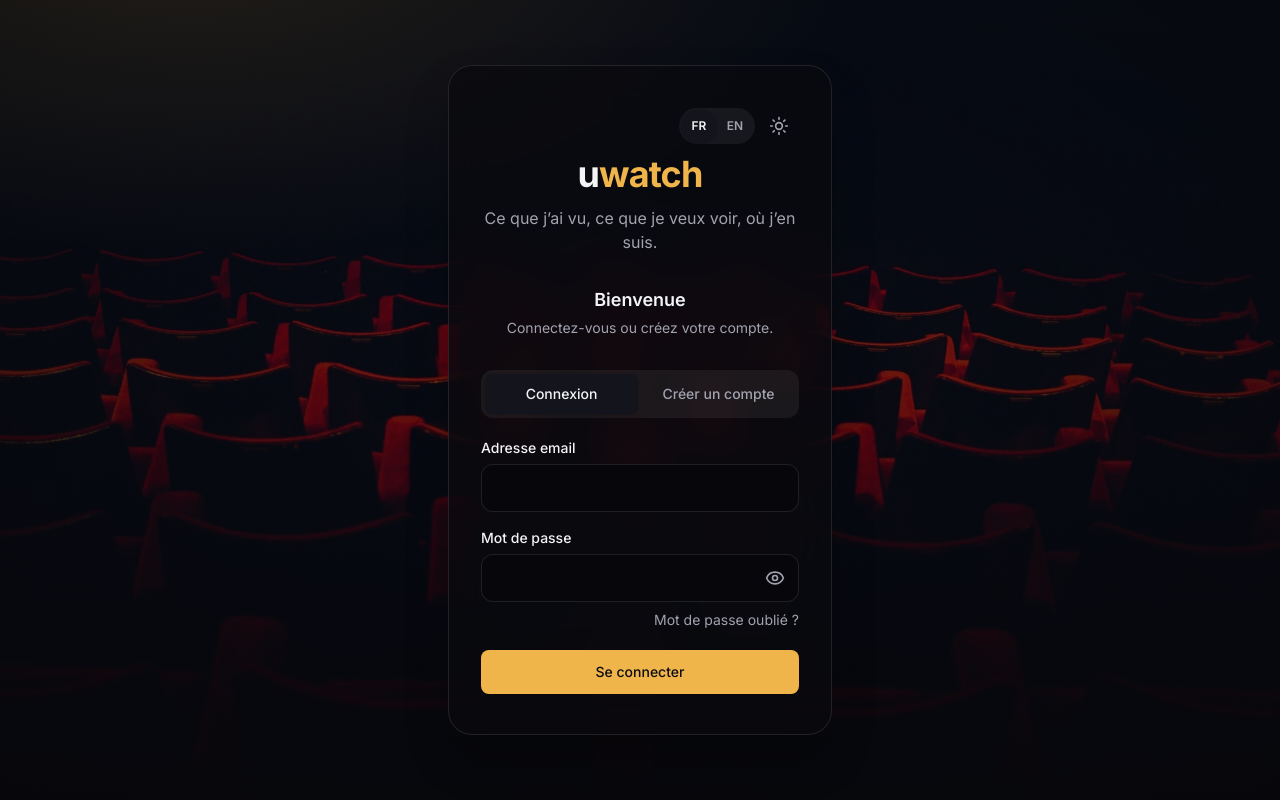
Test: LoginPage › refuses weak or mismatched passwords on sign-up
Click the button "Créer un compte" at (718, 394), box [642,374,795,414]
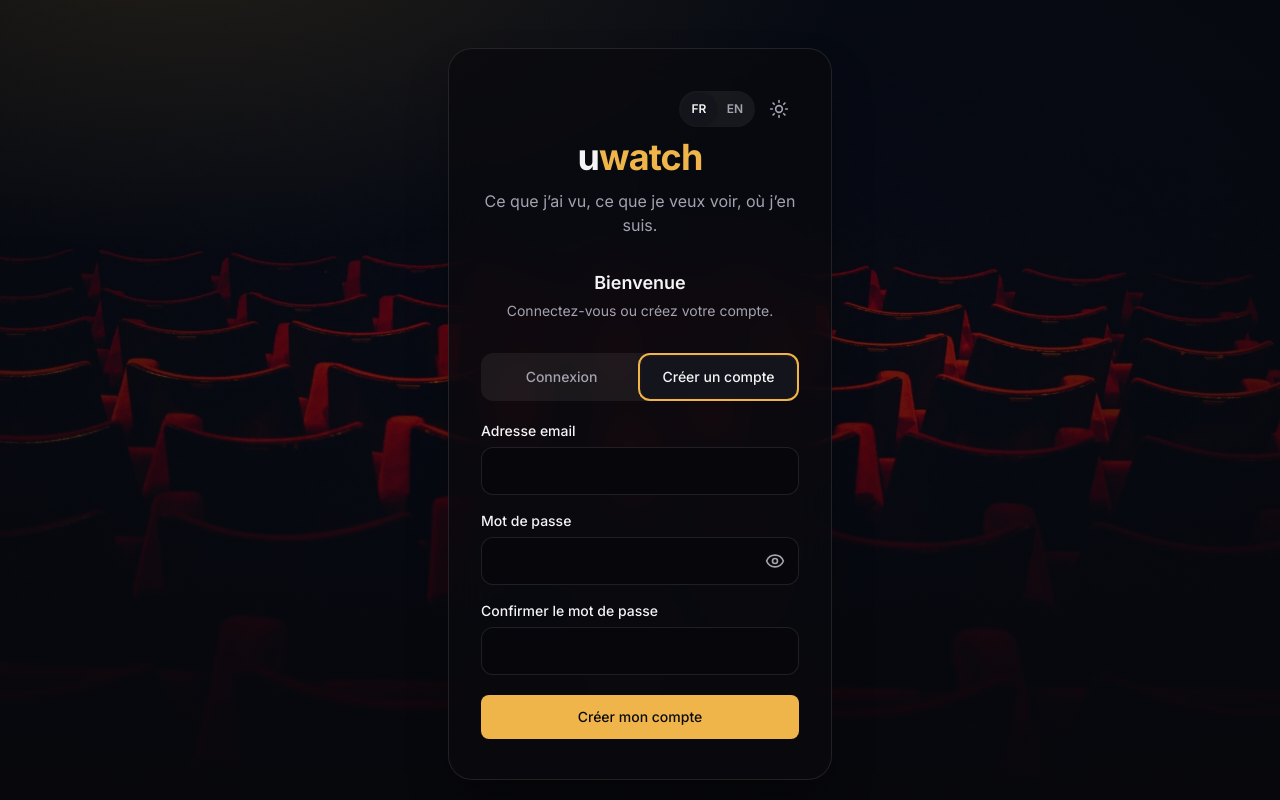
Type "me@example.com" into the field labelled "Adresse email" at (640, 471), box [481,447,799,495]
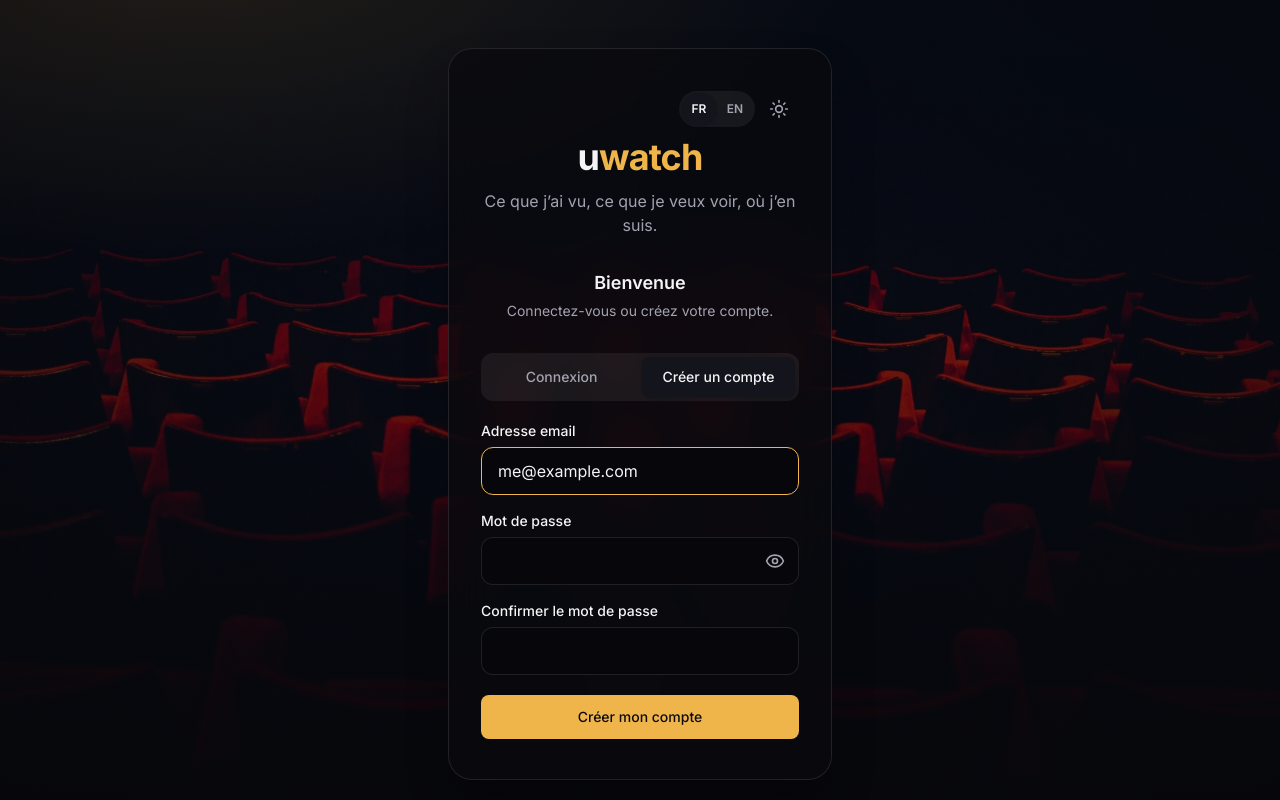
Type "short" into the password field labelled "Mot de passe" at (640, 561), box [481,537,799,585]
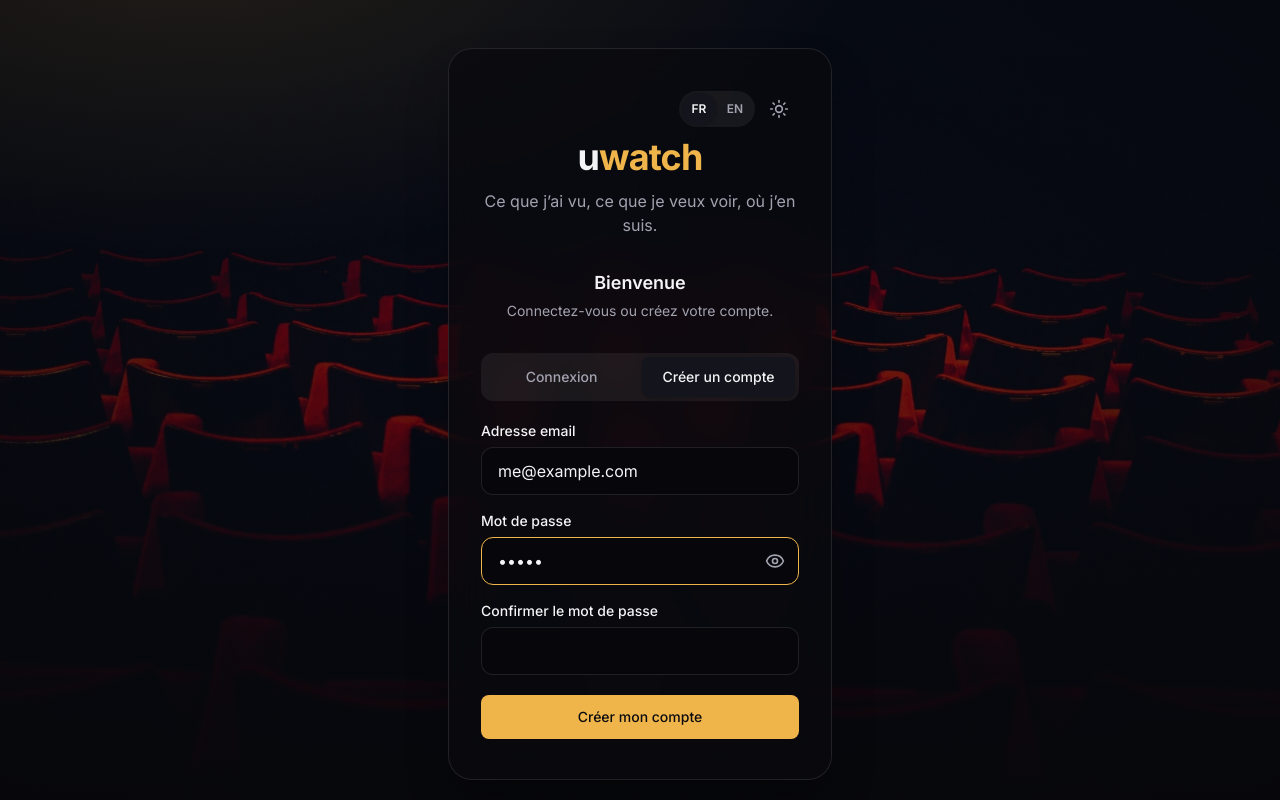
Type "other" into the password field labelled "Confirmer le mot de passe" at (640, 651), box [481,627,799,675]
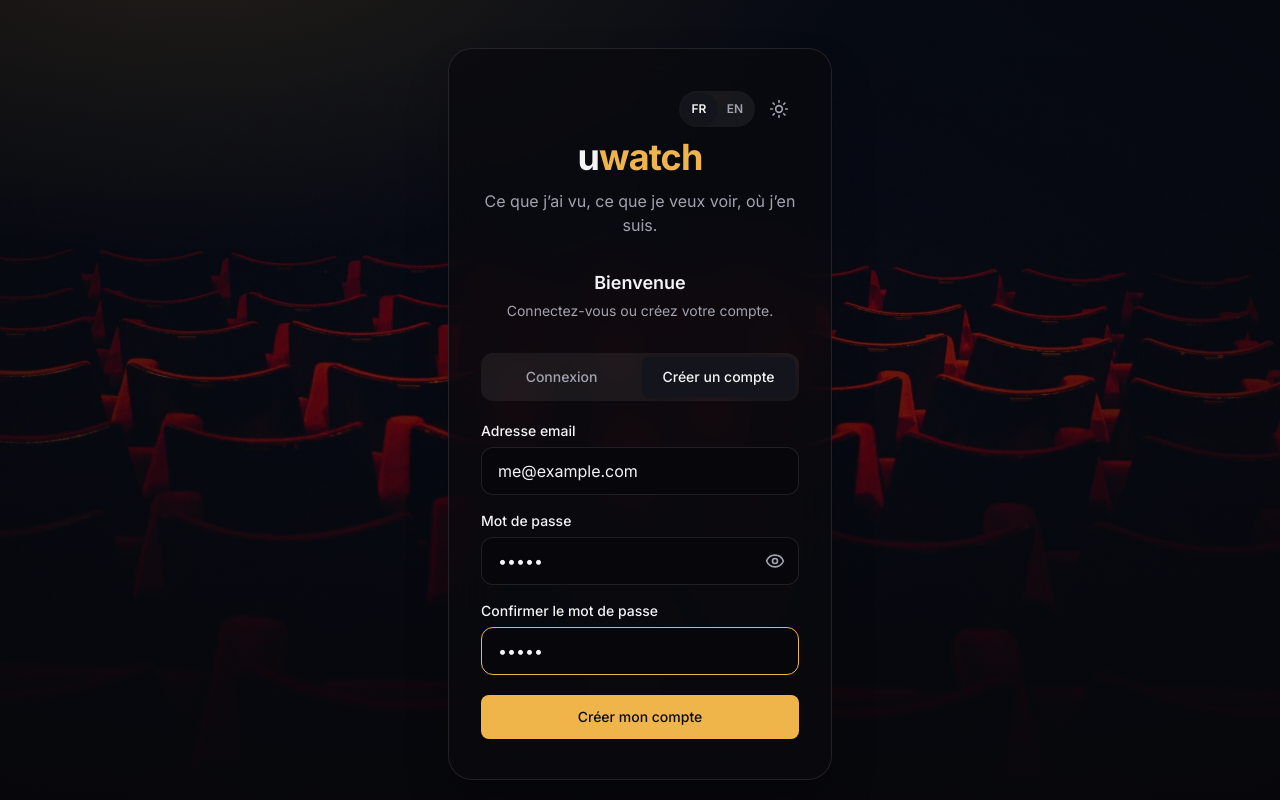
Click the button "Créer mon compte" at (640, 717), box [481,695,799,739]
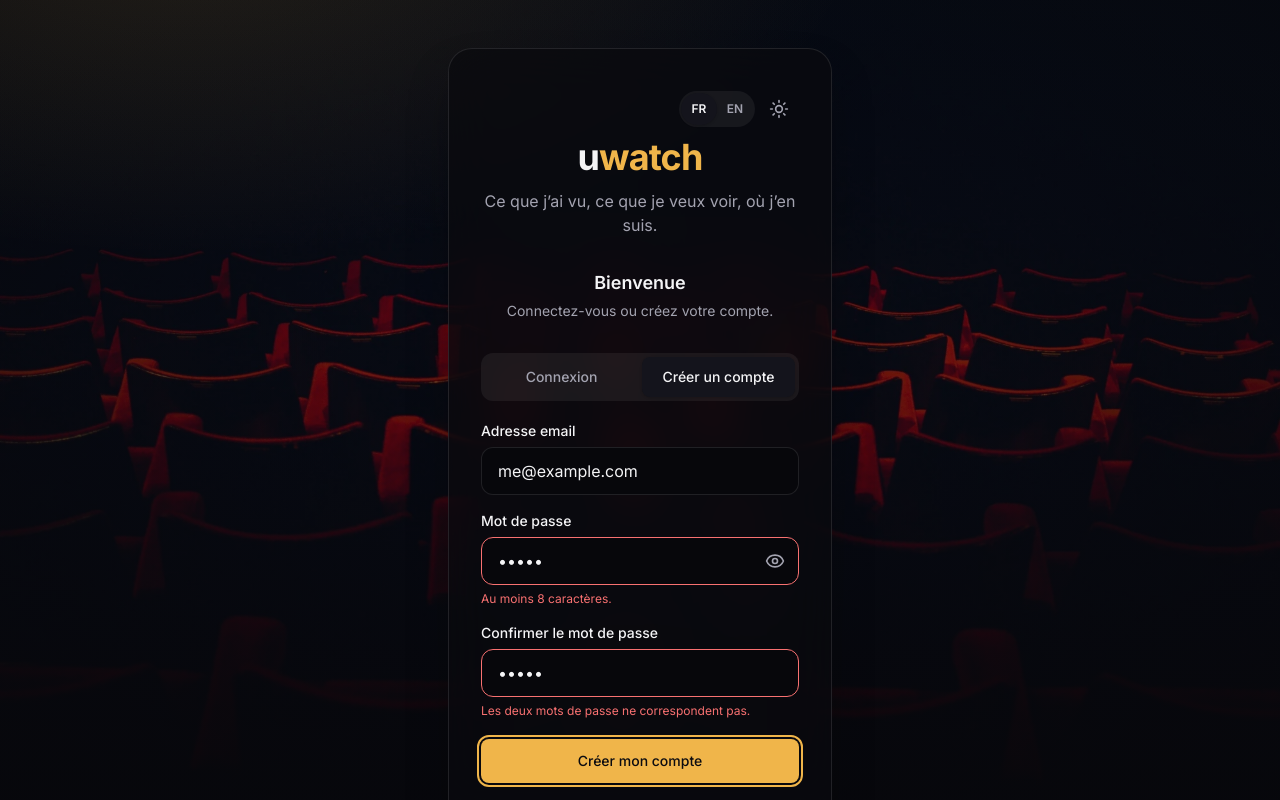
Check: the text "Au moins 8 caractères." is shown, box [481,591,612,606]
Check: the text "Les deux mots de passe ne correspondent pas." is shown, box [481,703,750,718]
